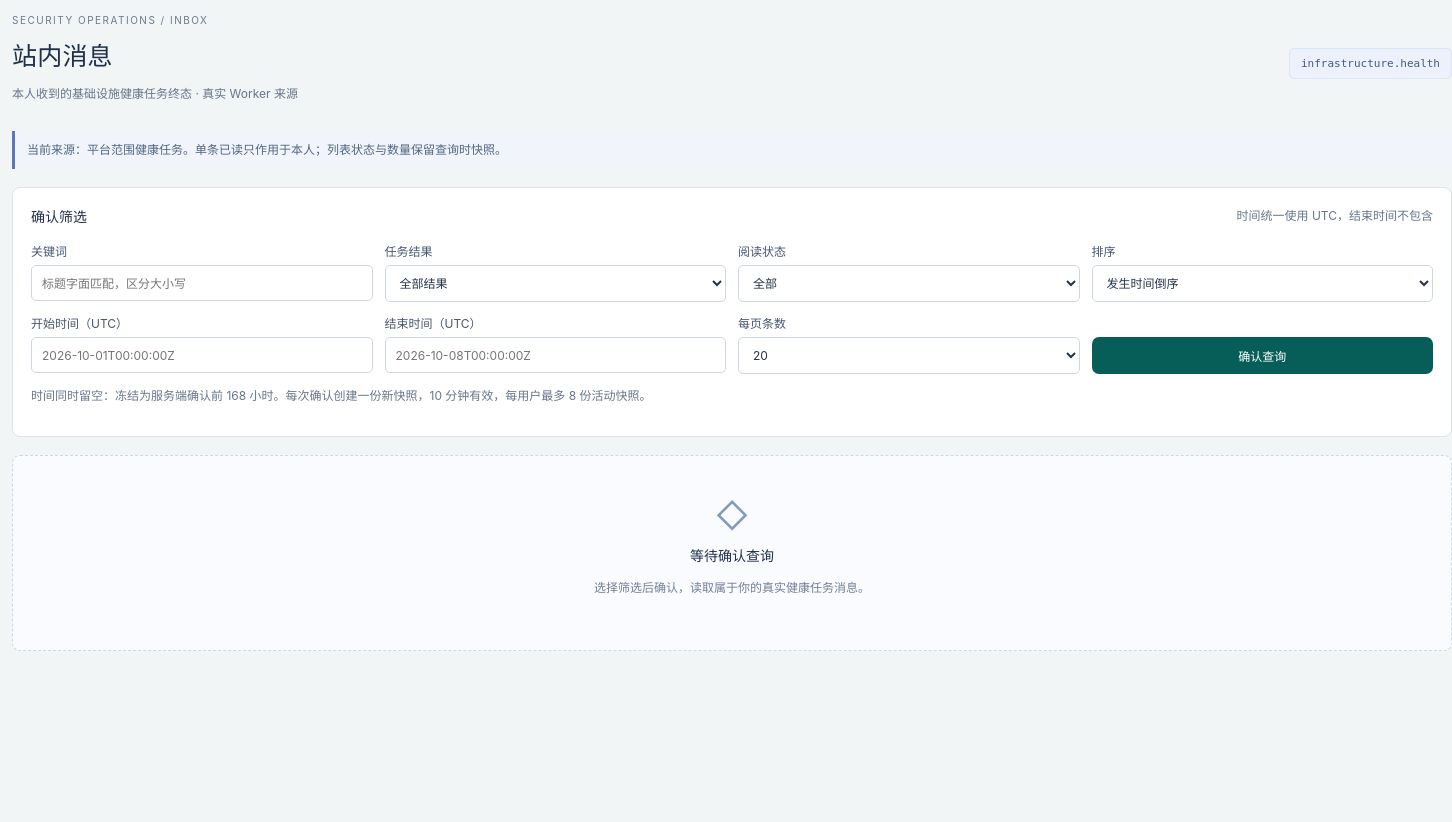
Test: unknown query response warns of quota use and never retries
Click the button "确认查询": click(1262, 356) [1092,337,1433,374]
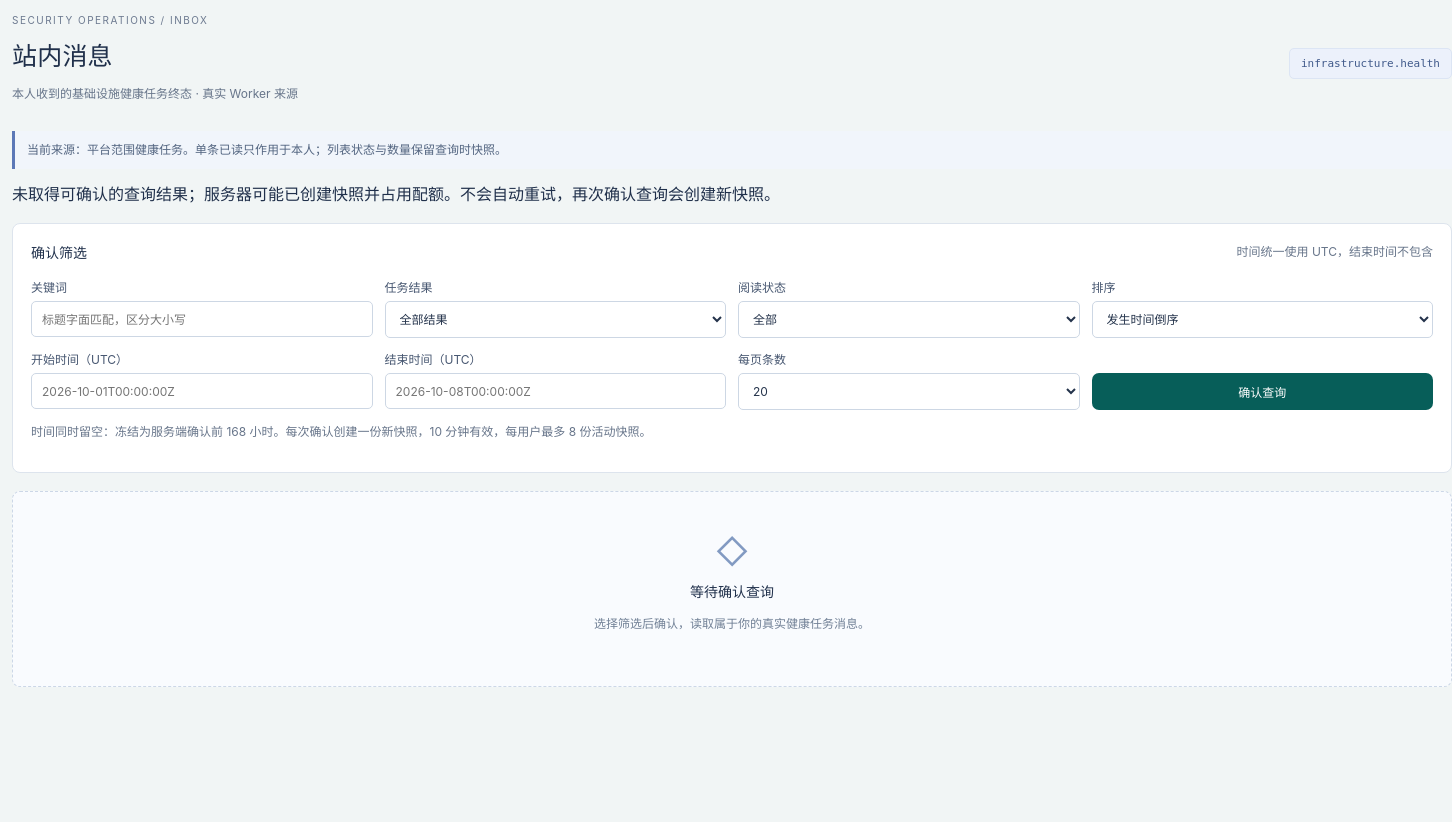
Check: the message shows "可能已创建快照并占用配额", box [12,184,780,204]
